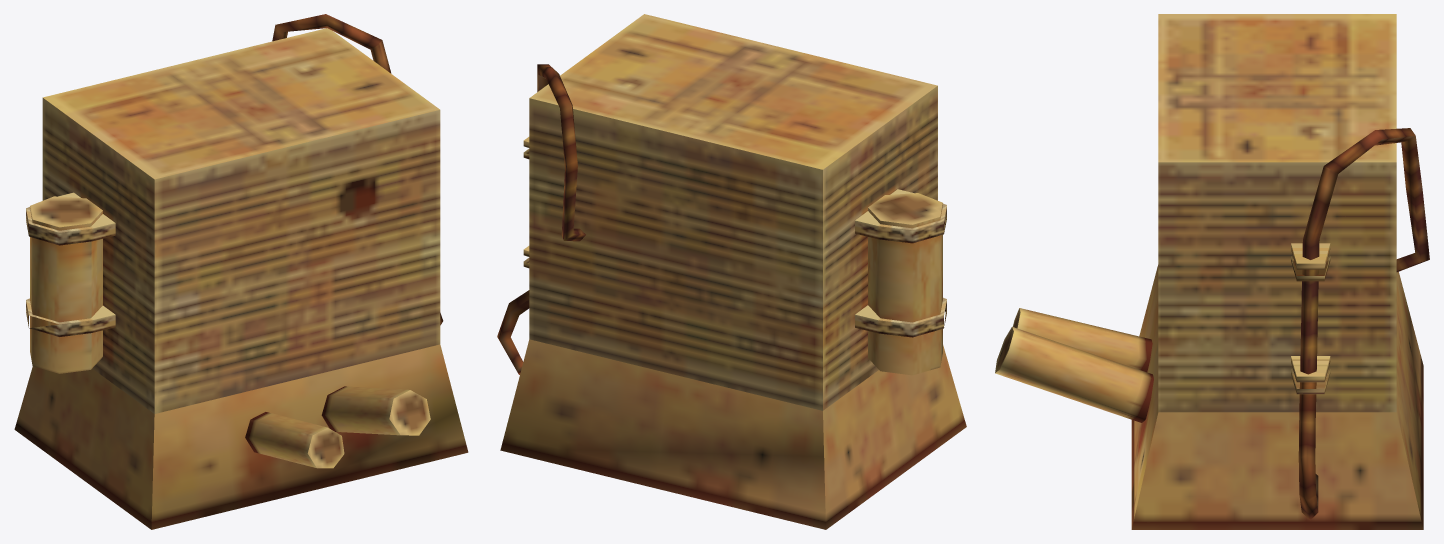
File: eqp_tool_talking_magnetite_cleaner_l1.fbx
3 views of the same model, side by side, from view 1: azimuth 30°, elevation 25°; view 2: azimuth 150°, elevation 25°; view 3: azimuth 270°, elevation 25° (orthographic). The views are drawn at different scales.
Visible parts, largest first — view 1: mesh_node; view 2: mesh_node; view 3: mesh_node.
Part boxes in pixels (x1=…): mesh_node: x1=14, y1=14, x2=468, y2=529; mesh_node: x1=497, y1=14, x2=966, y2=529; mesh_node: x1=995, y1=14, x2=1429, y2=529.
Bounding box in the file's own units: 0.3334 × 0.2714 × 0.2777.
Materials: 1 (1 with a texture image).
